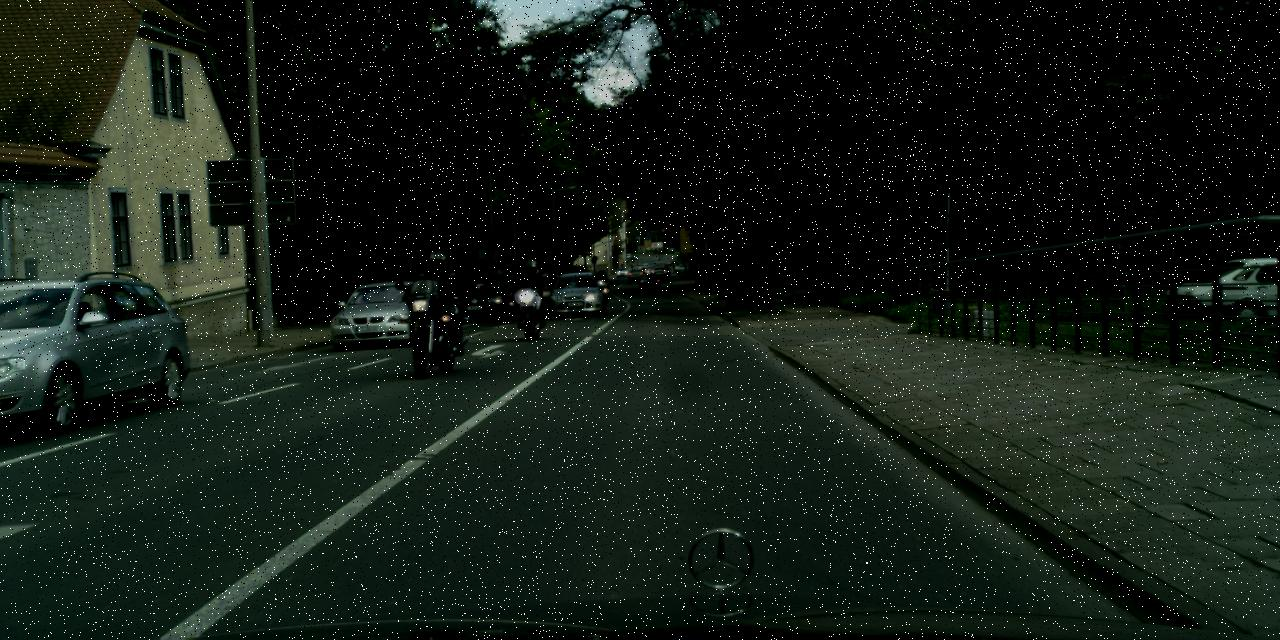ped: (416, 250, 458, 354), (516, 256, 545, 326), (404, 273, 414, 301), (382, 274, 389, 292), (598, 269, 603, 280), (578, 265, 582, 277)
